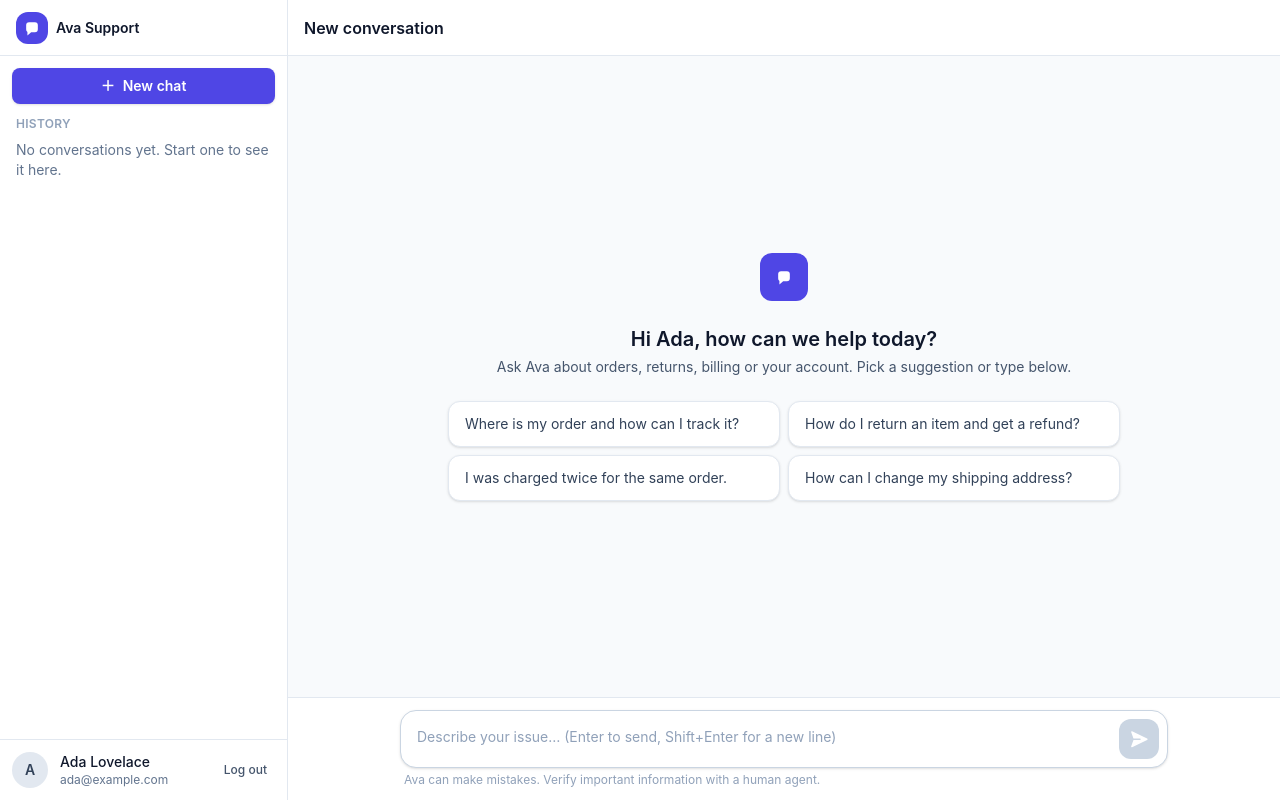
Route protection and session restoration › logs out and redirects to the login page
This screenshot has width=1280, height=800.
Click the button "Log out". click: (245, 770)
box: [216,756,275,784]
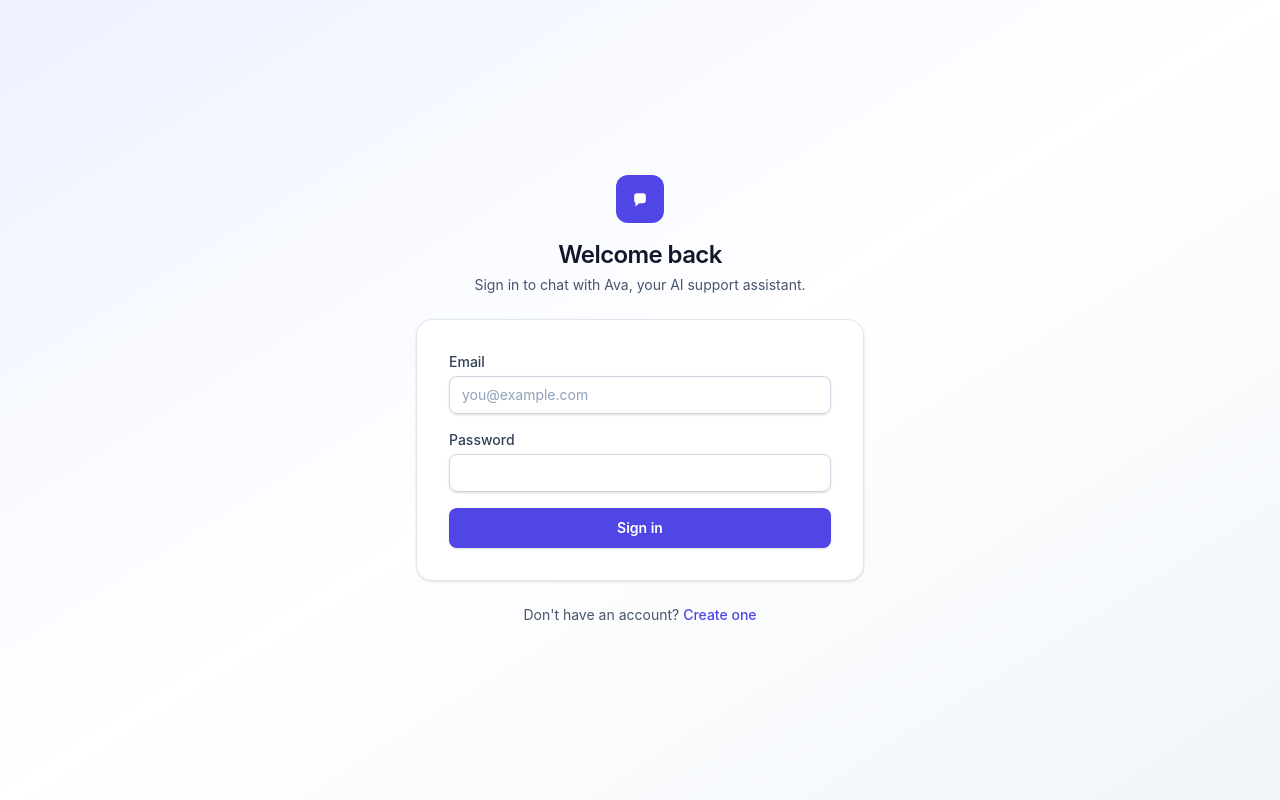
Now the heading "Welcome back" is shown, box [558,239,722,271]
